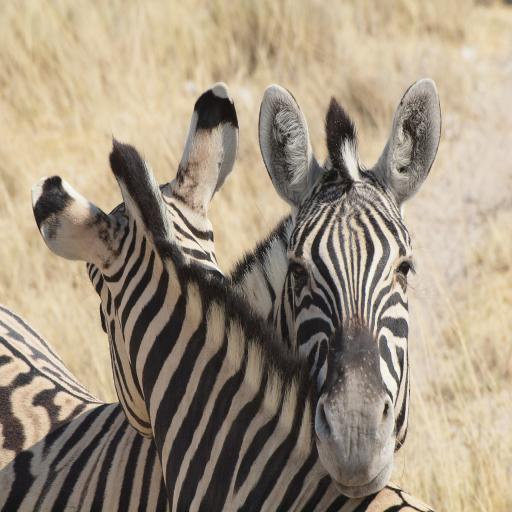Zebra: (0, 78, 442, 512)
